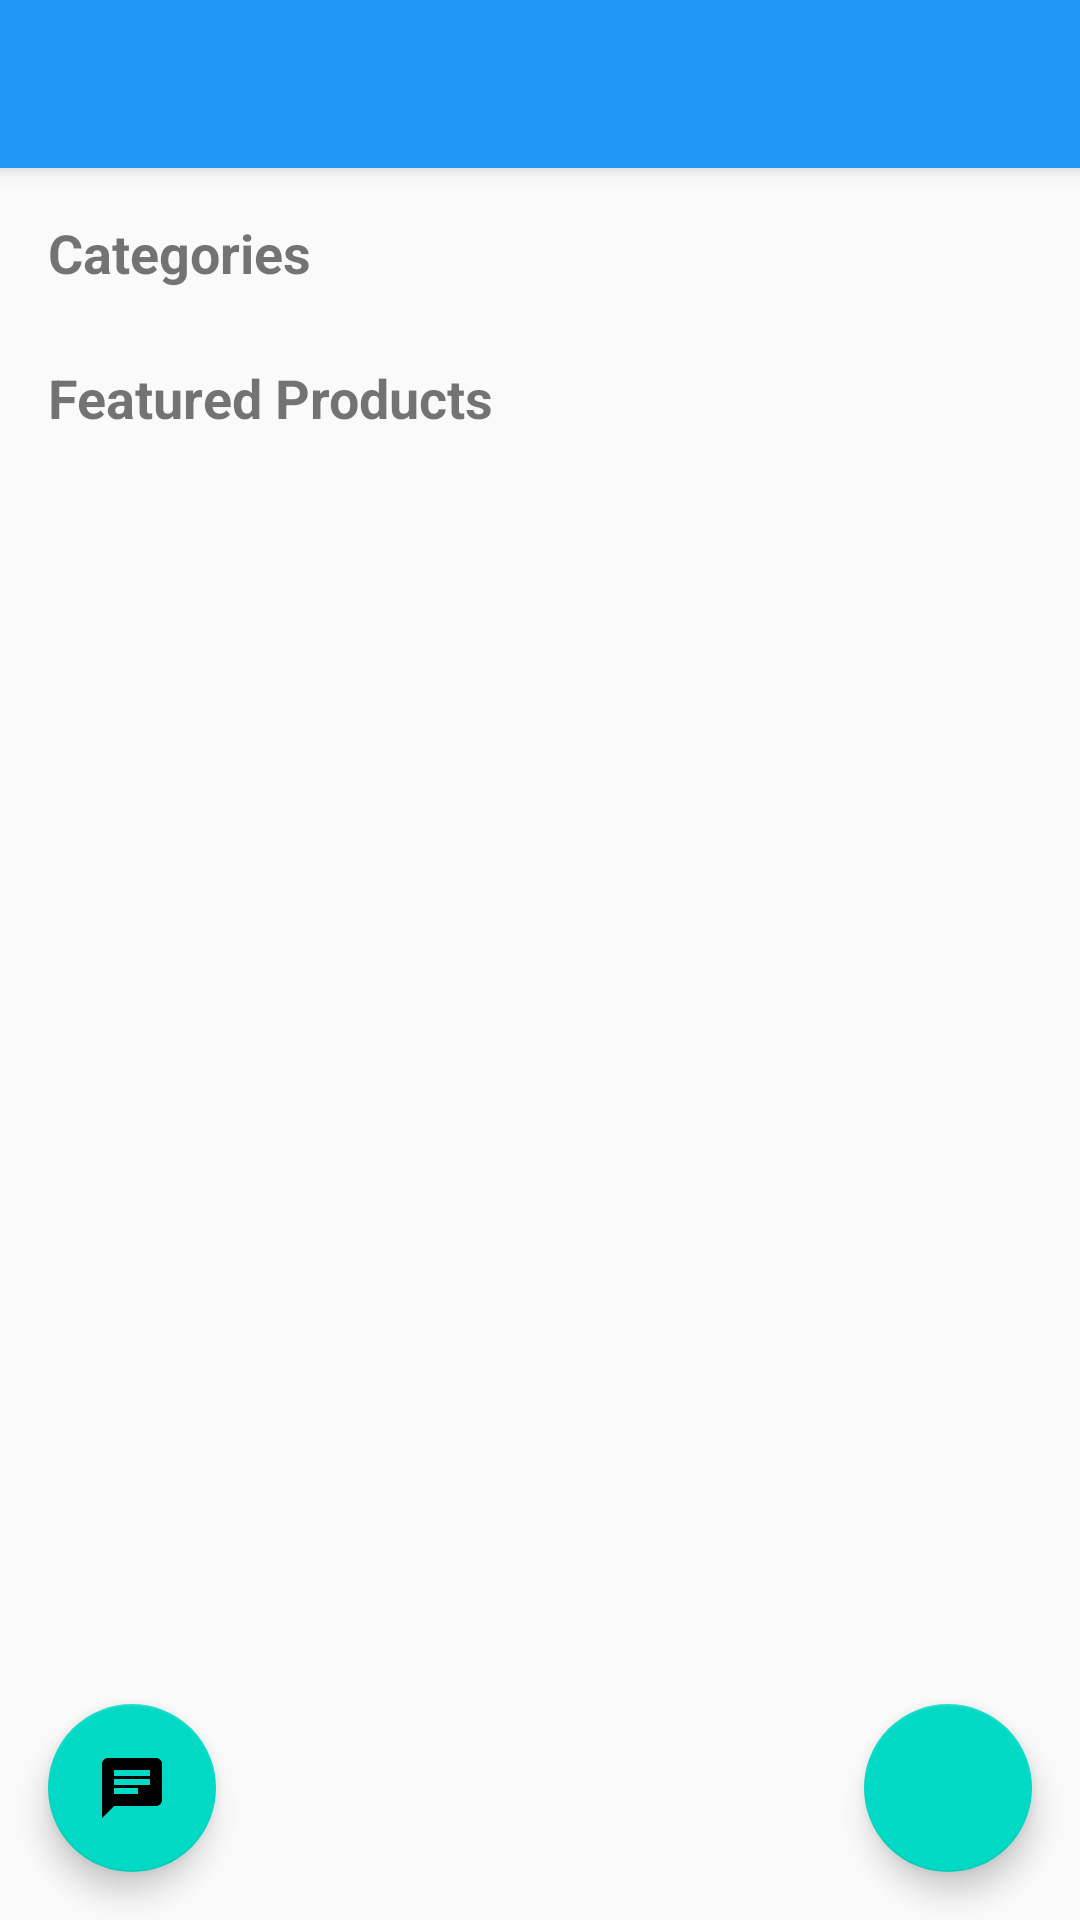

Icon click points for this 1080×1920 phone screenshot, format (x=x, y=y):
Chat with Support: (x=132, y=1788)
